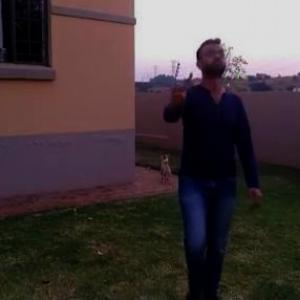takeoff-hand: (162, 81, 186, 109)
